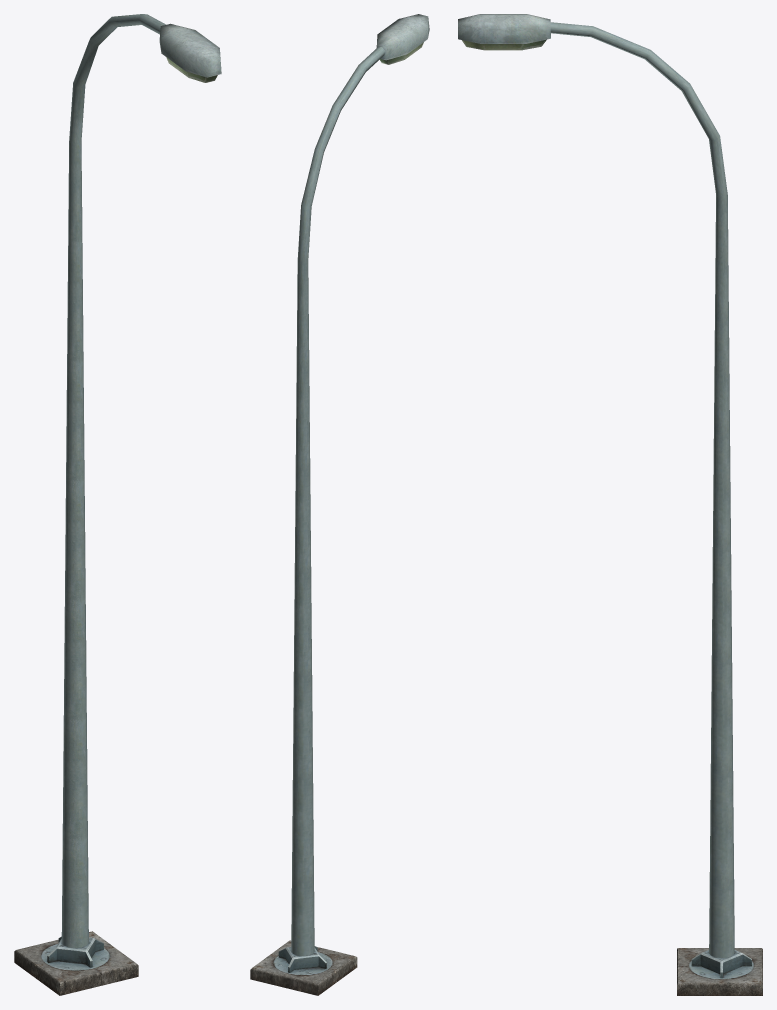
Rendered from Sun_0001_StreetLight.fbx.
The picture shows the model from 3 angles, left to right: view 1: azimuth 30°, elevation 25°; view 2: azimuth 150°, elevation 25°; view 3: azimuth 270°, elevation 25°; orthographic projection. The views are drawn at different scales.
Visible parts, largest first — view 1: Sun_0001_StreetLight; view 2: Sun_0001_StreetLight; view 3: Sun_0001_StreetLight.
Part boxes in pixels (box(x1,y1,x2,y2)): Sun_0001_StreetLight: box(14, 14, 221, 995); Sun_0001_StreetLight: box(250, 14, 429, 995); Sun_0001_StreetLight: box(458, 14, 762, 995).
Size of the model in its own units: 70.14 by 864 by 248.
